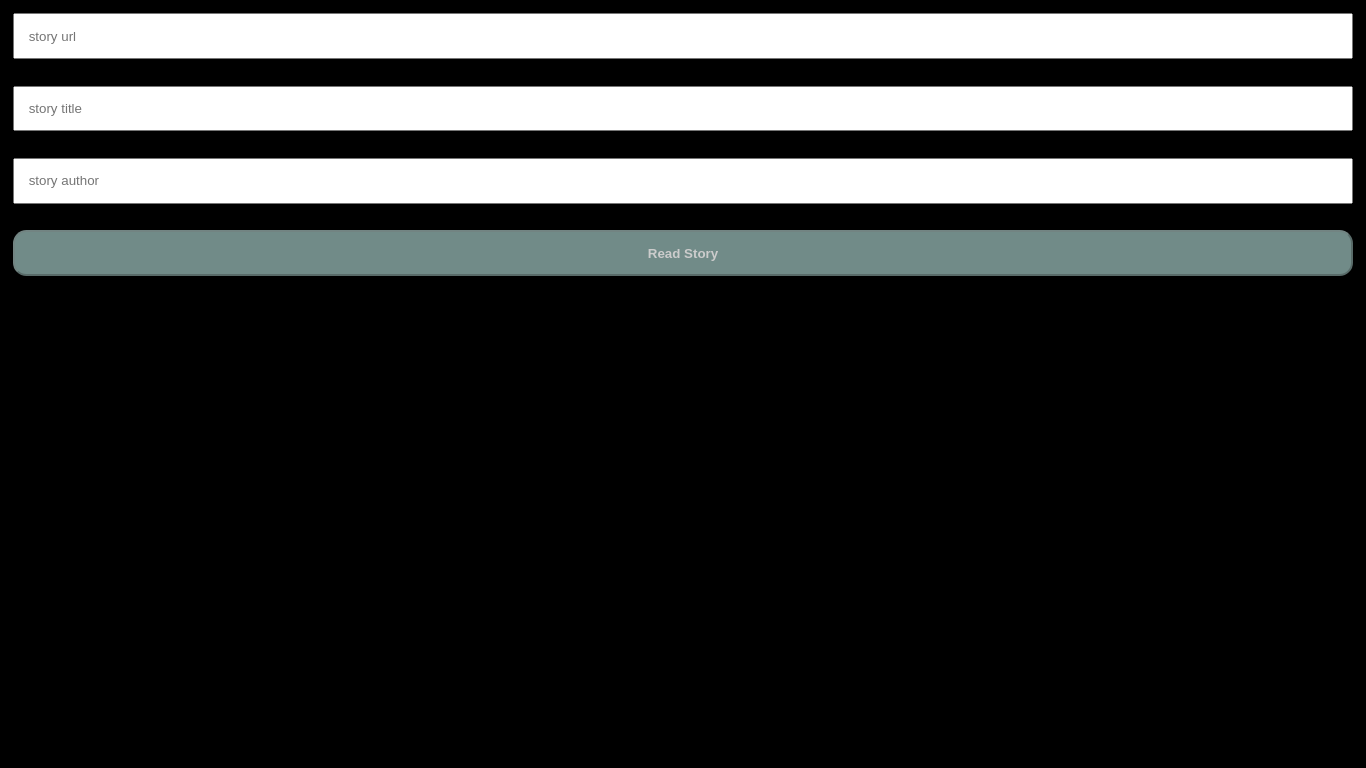
Test: StoryLoader › loads a story › from local storage
The image size is (1366, 768).
Type "http://www.example.com/story/42" into the field with placeholder "story url".
click(683, 36); type("http://www.example.com/story/42")  # box [13,13,1353,59]
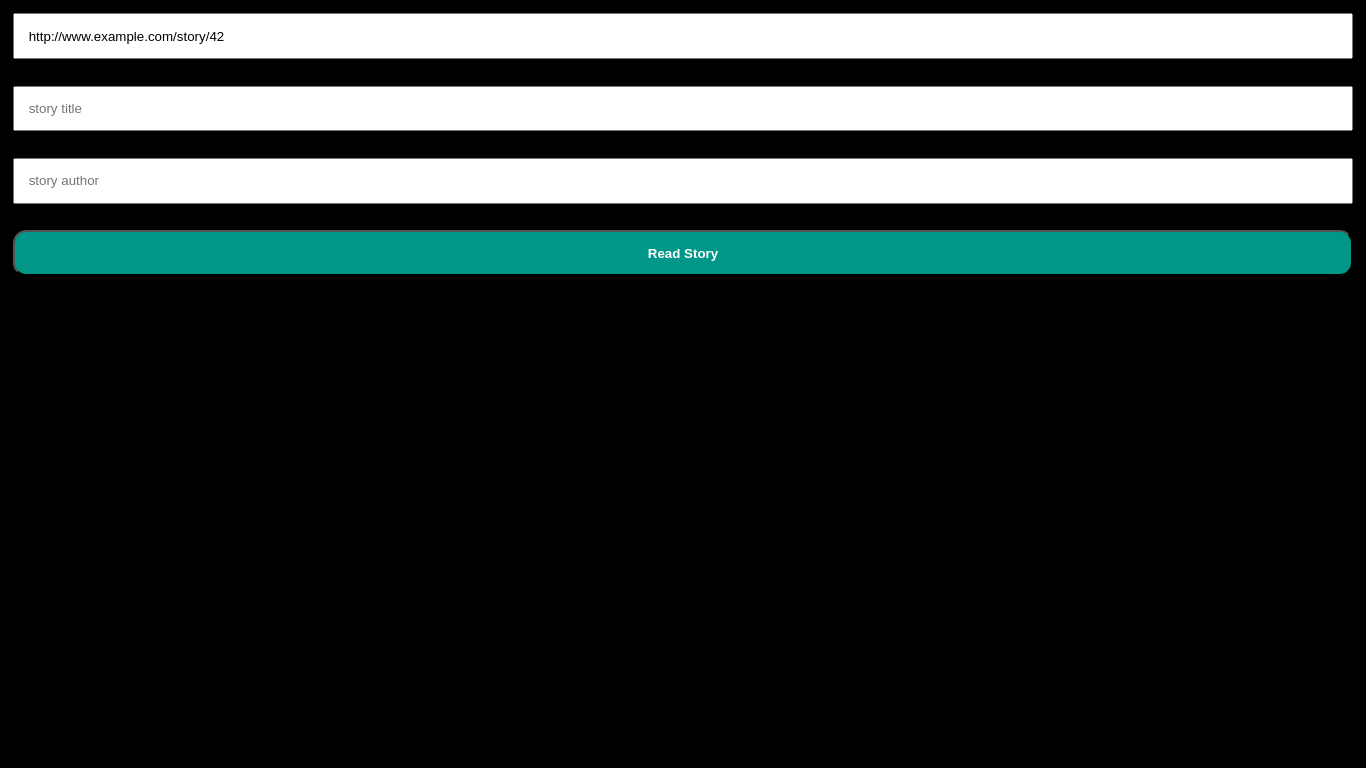
Click the button with class "StoryLoader-read-button".
click(683, 253)  # box [13,230,1353,276]
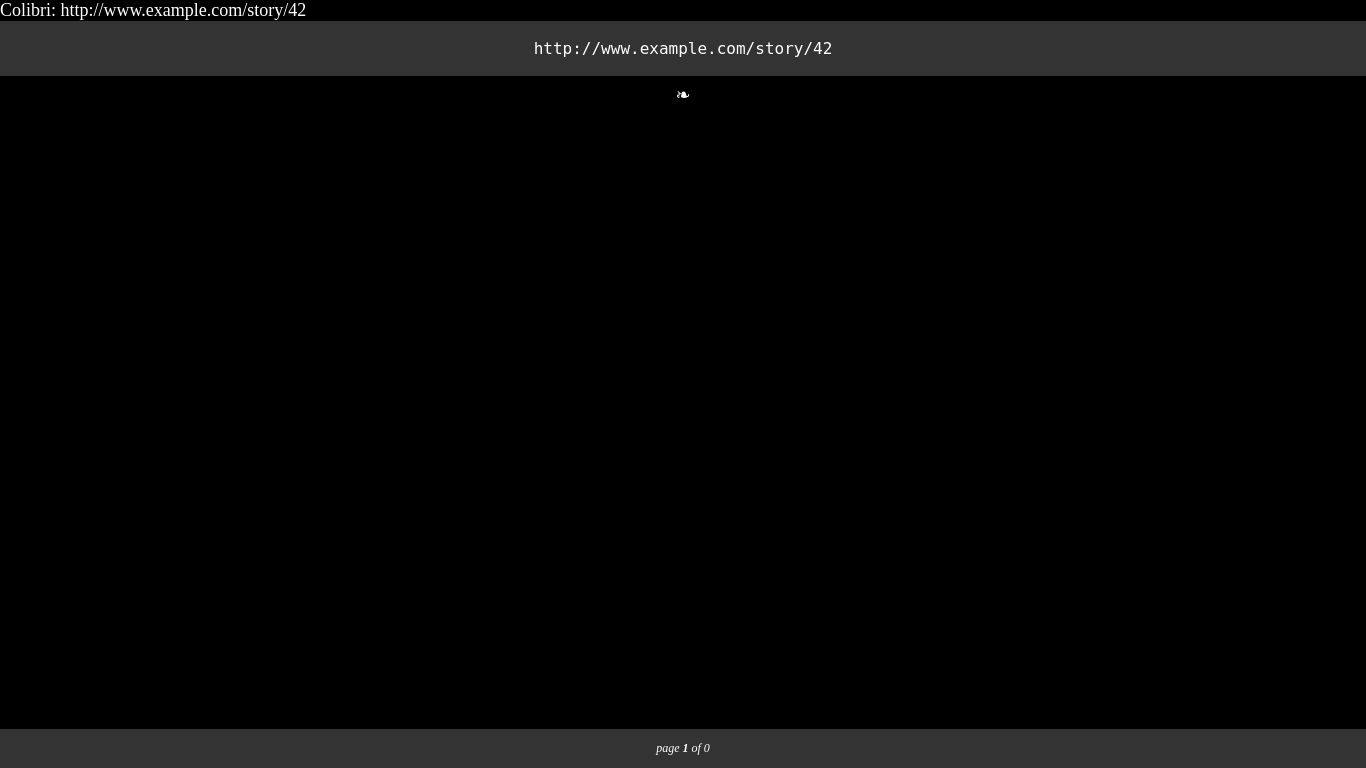
Now the text "http://www.example.com/story/42" is shown, box [534,39,832,58]
